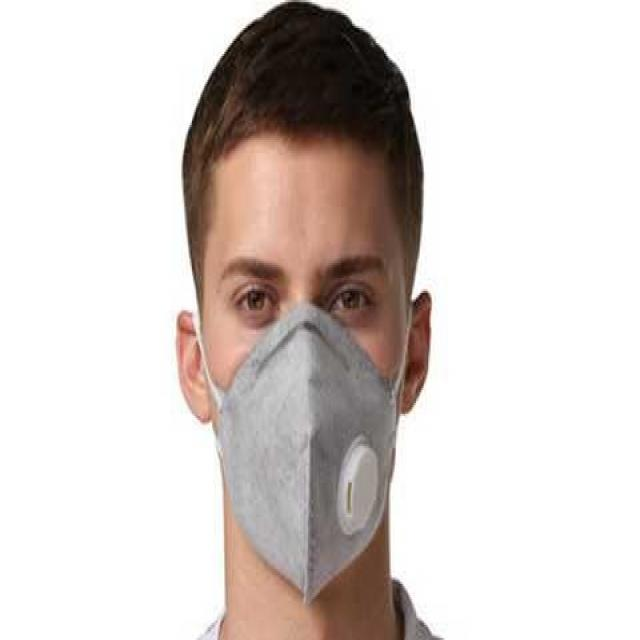mask: (208, 151, 403, 560)
